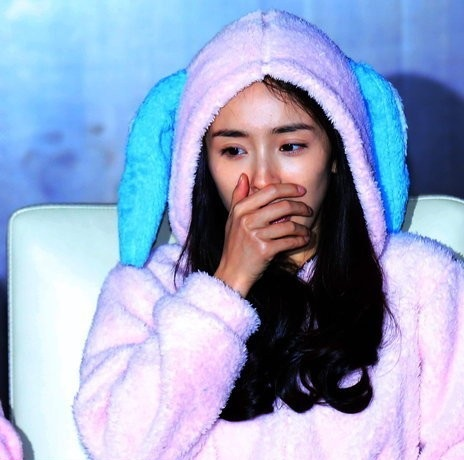face: (205, 77, 328, 241)
